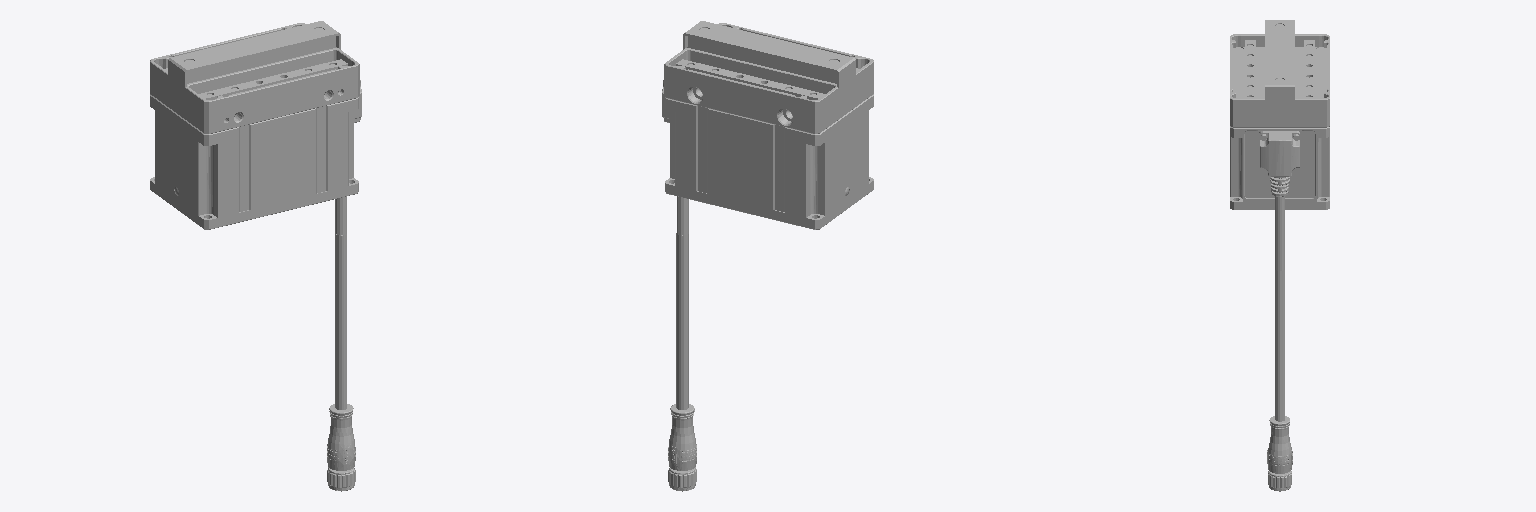
The robot description file, URDF, robot "new_gripper":
<?xml version="1.0" encoding="utf-8"?>
<!-- This URDF was automatically created by SolidWorks to URDF Exporter! Originally created by [author] ([email redacted]) 
     Commit Version: 1.6.0-4-g7f85cfe  Build Version: 1.6.7995.38578
     For more information, please see http://wiki.ros.org/sw_urdf_exporter -->
<robot
  name="new_gripper">
  <link
    name="hand_base_link">
    <inertial>
      <origin
        xyz="0.077292 -0.051364 7.4376E-05"
        rpy="0 0 0" />
      <mass
        value="0.17705" />
      <inertia
        ixx="6.9058E-05"
        ixy="2.7371E-06"
        ixz="-1.5809E-09"
        iyy="0.00010069"
        iyz="-4.6569E-09"
        izz="0.00011794" />
    </inertial>
    <visual>
      <origin
        xyz="0 0 0"
        rpy="0 0 0" />
      <geometry>
        <mesh
          filename="package://new_gripper/meshes/hand_base_link.STL" />
      </geometry>
      <material
        name="">
        <color
          rgba="0.75294 0.75294 0.75294 1" />
      </material>
    </visual>
    <collision>
      <origin
        xyz="0 0 0"
        rpy="0 0 0" />
      <geometry>
        <mesh
          filename="package://new_gripper/meshes/hand_base_link.STL" />
      </geometry>
    </collision>
  </link>
  <link
    name="finger_link">
    <inertial>
      <origin
        xyz="1.3878E-17 -3.7024E-17 0.099518"
        rpy="0 0 0" />
      <mass
        value="0.031105" />
      <inertia
        ixx="3.6074E-06"
        ixy="1.3396E-07"
        ixz="-4.229E-22"
        iyy="5.8935E-06"
        iyz="2.8011E-23"
        izz="6.8651E-06" />
    </inertial>
    <visual>
      <origin
        xyz="0 0 0"
        rpy="0 0 0" />
      <geometry>
        <mesh
          filename="package://new_gripper/meshes/finger_link.STL" />
      </geometry>
      <material
        name="">
        <color
          rgba="0.75294 0.75294 0.75294 1" />
      </material>
    </visual>
    <collision>
      <origin
        xyz="0 0 0"
        rpy="0 0 0" />
      <geometry>
        <mesh
          filename="package://new_gripper/meshes/finger_link.STL" />
      </geometry>
    </collision>
  </link>
  <joint
    name="handj1"
    type="fixed">
    <origin
      xyz="0.11988 0 -0.052907"
      rpy="3.1416 -1.5708 0" />
    <parent
      link="hand_base_link" />
    <child
      link="finger_link" />
    <axis
      xyz="0 0 0" />
  </joint>
</robot>

--- Facts derived from the render (not from the file) ---
Views: 3 orthographic renders of the robot side by side, from view 1: azimuth 30°, elevation 25°; view 2: azimuth 150°, elevation 25°; view 3: azimuth 270°, elevation 25°.
Model new_gripper with 2 links and 1 joints (1 fixed), rooted at hand_base_link, posed every joint at zero.
Links seen in each view (by area): view 1: hand_base_link; view 2: hand_base_link; view 3: hand_base_link.
Boxes of the visible links, <box> form: hand_base_link: <box>150,21,361,491</box>; hand_base_link: <box>662,21,873,491</box>; hand_base_link: <box>1230,20,1329,491</box>.
Size in the robot's own frame: 0.1094 by 0.0617 by 0.2709 metres.
1 mesh visuals loaded from 2 distinct referenced files (1 binary STL); not drawn: 1 (reference not matched to a file when rendering).